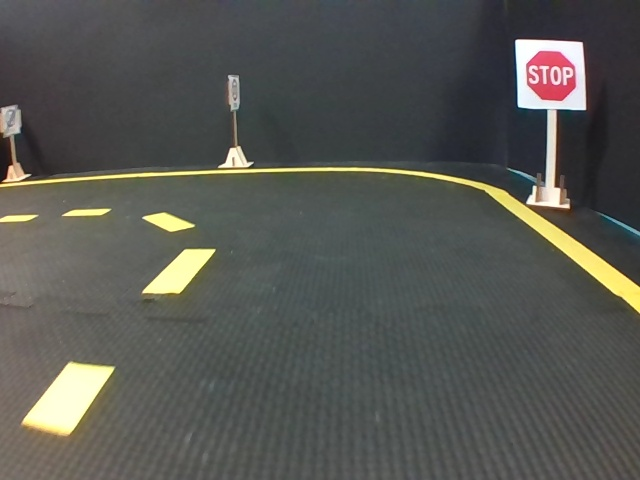30: (230, 77, 239, 107)
no30: (1, 105, 22, 135)
stop: (516, 40, 585, 110)
